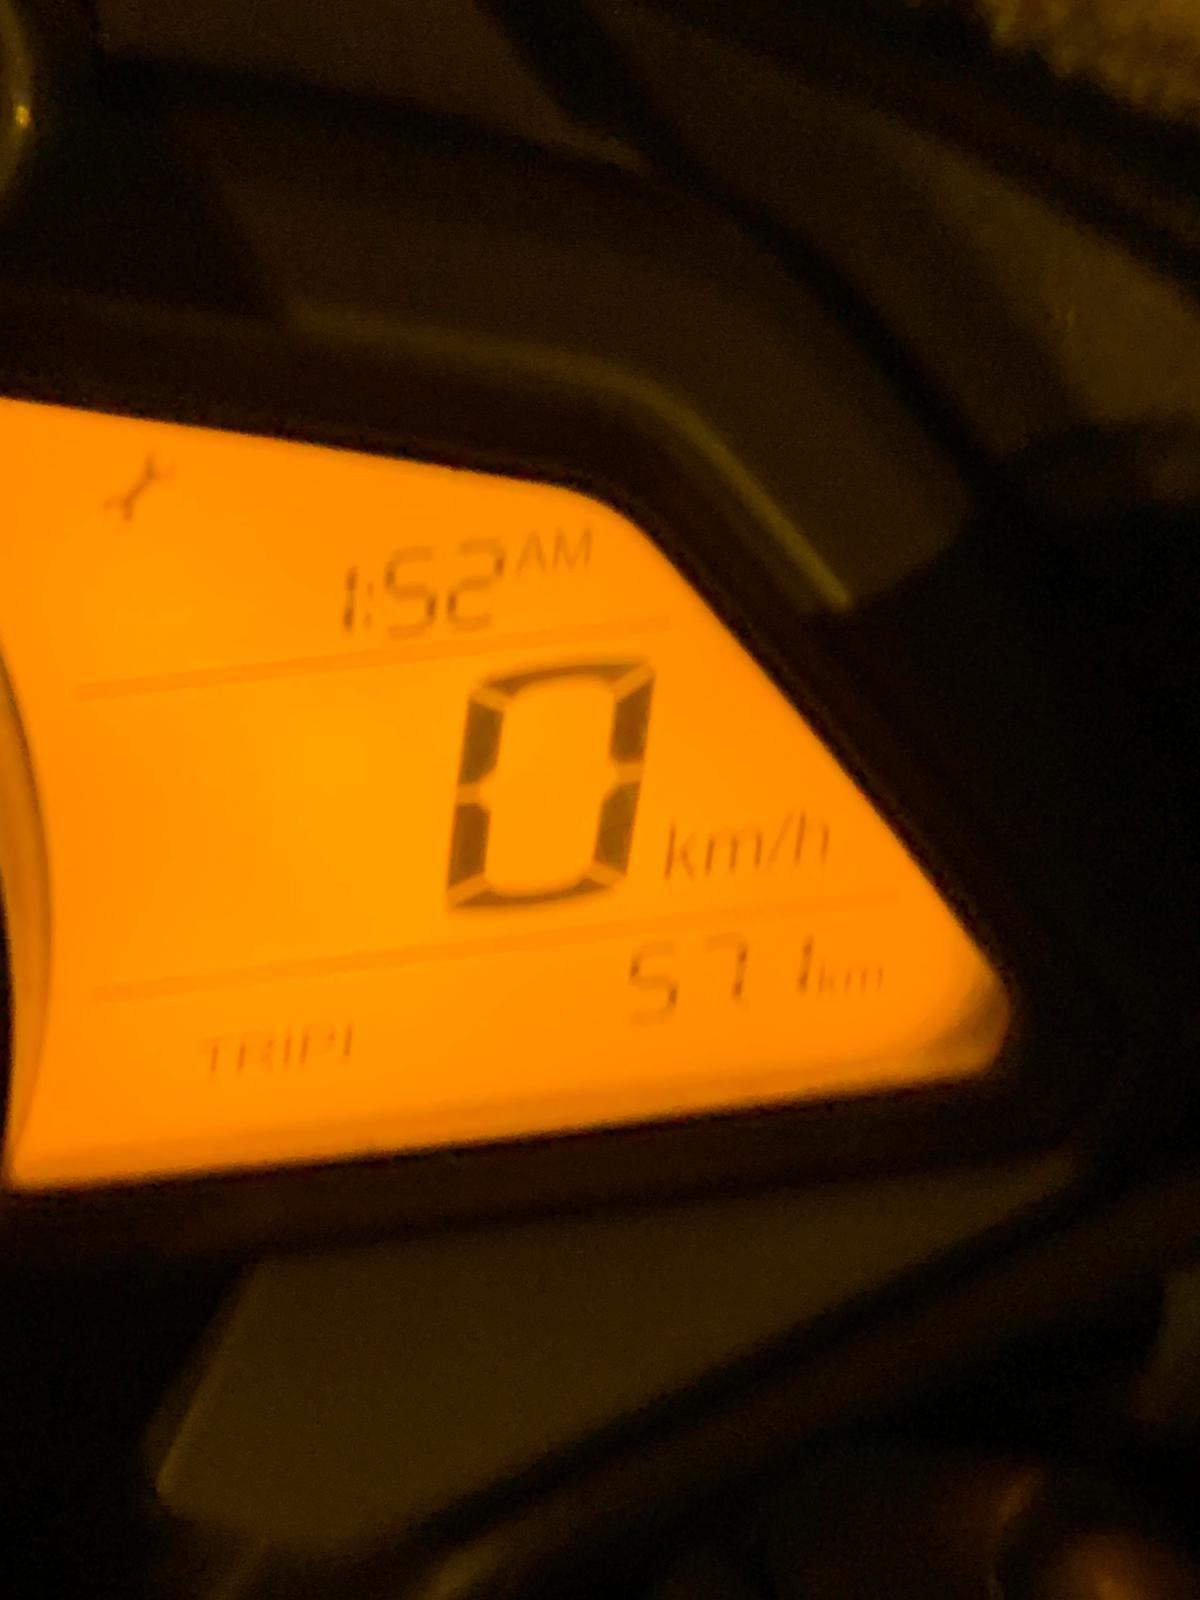0: (437, 651, 642, 912)
1: (788, 929, 818, 1008), (337, 556, 361, 643)
2: (447, 535, 507, 632)
5: (383, 547, 437, 640), (626, 939, 686, 1020)
7: (705, 923, 758, 1007)
X: (705, 824, 763, 877), (655, 815, 700, 881), (795, 800, 836, 866), (300, 1015, 338, 1078), (234, 1020, 274, 1077), (192, 1023, 229, 1078), (551, 523, 594, 571), (764, 803, 793, 866), (516, 527, 550, 576), (845, 961, 886, 995), (277, 1019, 299, 1078), (819, 963, 843, 997)
odometer: (0, 386, 1029, 1202)
